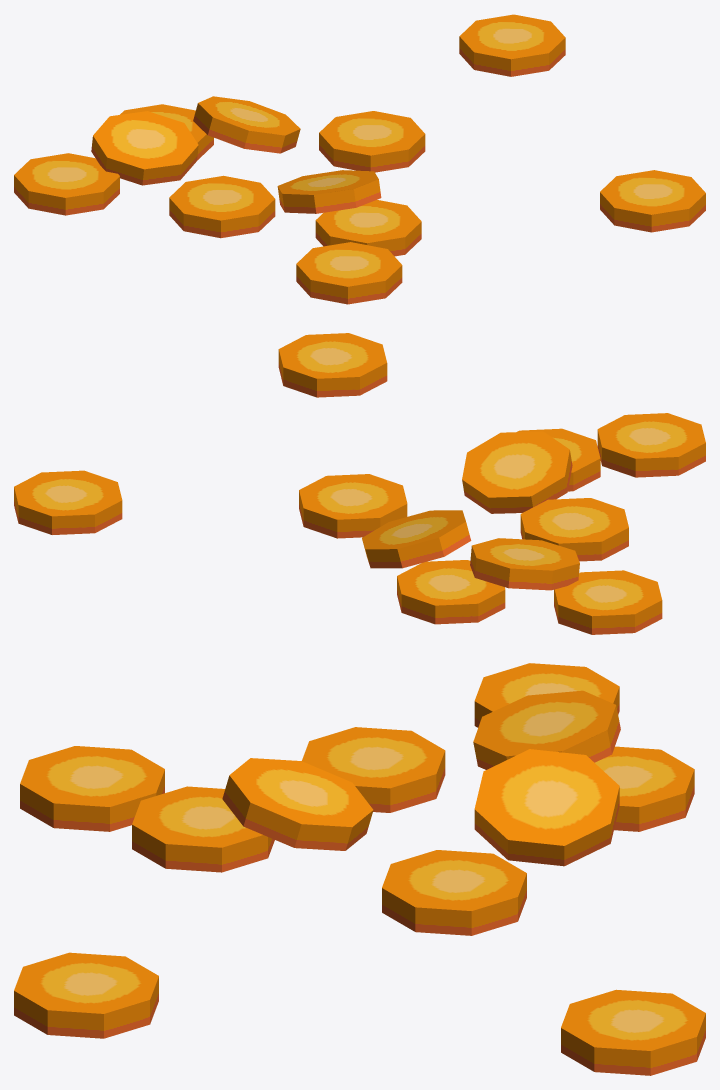
Rendered from coins.obj.
3 renders of one model, top to bottom at view 1: azimuth 30°, elevation 25°; view 2: azimuth 150°, elevation 25°; view 3: azimuth 270°, elevation 25°, orthographic. The views are drawn at different scales.
Parts seen in each view (by area): view 1: Cylinder; view 2: Cylinder; view 3: Cylinder.
Part boxes in pixels (box(x1,y1,x2,y2)): Cylinder: box(14, 14, 705, 304); Cylinder: box(14, 333, 705, 634); Cylinder: box(14, 663, 705, 1075).
Bounding box in the file's own units: 39.37 × 3.08 × 29.68.
Materials: 1 (1 with a texture image).
